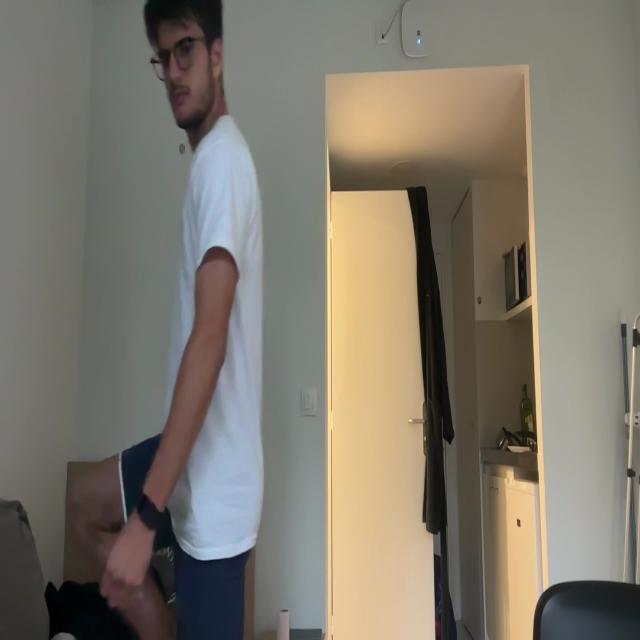elbow: (191, 319, 229, 370)
hand: (100, 498, 151, 608)
shoulder: (195, 136, 253, 232)
